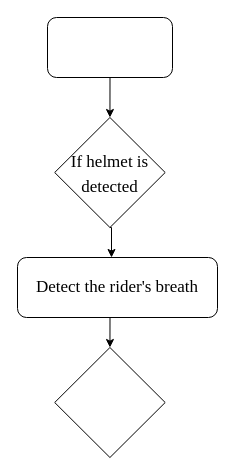
Some shapes in this 235 by 475 pixel diagram are drawn without their labels. The shapes that lost their labels are listed below. From the top down, each one's box as (x1, y1, x2, y2) in pixels, then its label:
(46, 16, 172, 78): START
(54, 346, 165, 458): If alcohol consumed
